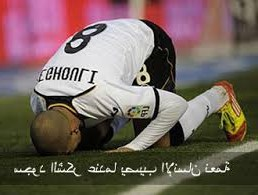sujud: (30, 17, 248, 155)
